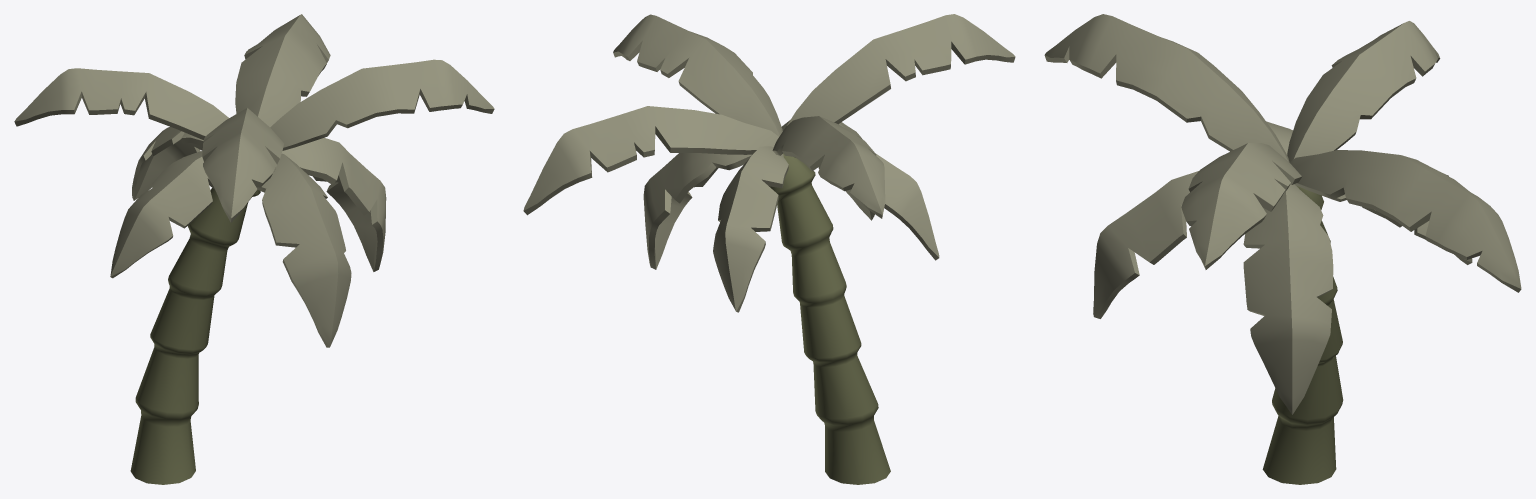
Rendered from Environment_PalmTree_2.glb.
The picture shows the model from 3 angles, left to right: view 1: azimuth 30°, elevation 25°; view 2: azimuth 150°, elevation 25°; view 3: azimuth 270°, elevation 25°; orthographic projection. The views are drawn at different scales.
Visible parts, largest first — view 1: Environment_PalmTree_2; view 2: Environment_PalmTree_2; view 3: Environment_PalmTree_2.
Part boxes in pixels (bbox=[...]): Environment_PalmTree_2: bbox=[14, 14, 494, 484]; Environment_PalmTree_2: bbox=[523, 14, 1015, 484]; Environment_PalmTree_2: bbox=[1044, 14, 1521, 484].
Size of the model in its own units: 2.64 by 2.69 by 2.58.
Materials: 1 (1 with a texture image).
